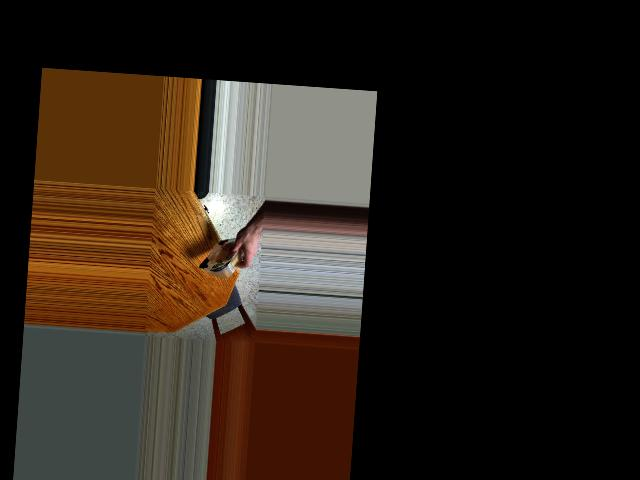cheese: (200, 223, 243, 283)
